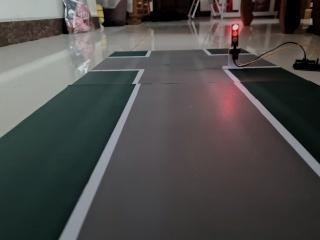red: (228, 19, 243, 55)
